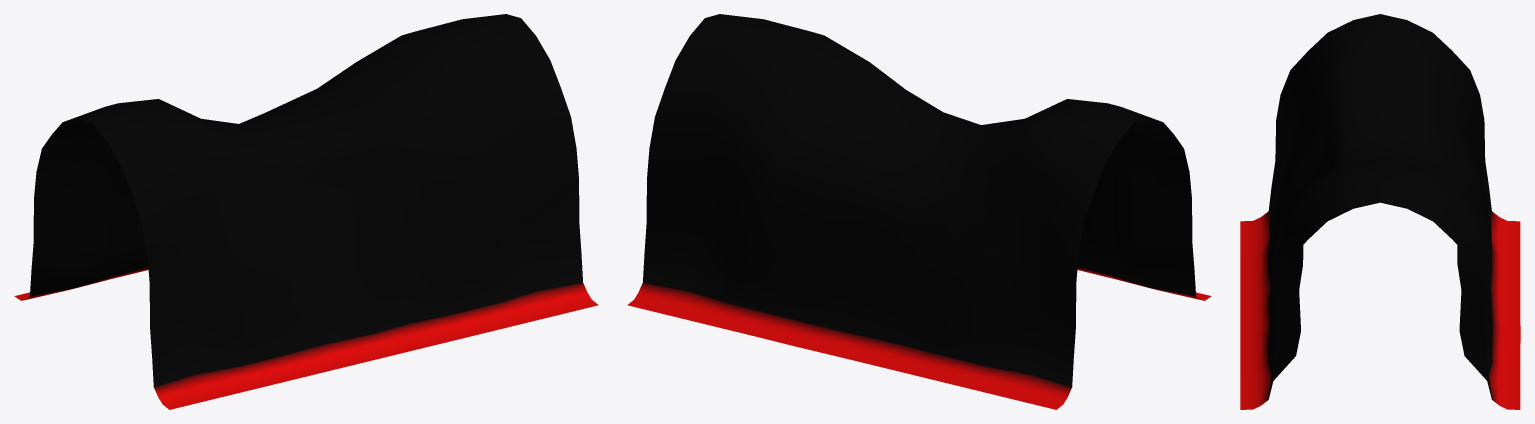
The model's file is GroundObject05B.fbx.
The picture shows the model from 3 angles, left to right: view 1: azimuth 30°, elevation 25°; view 2: azimuth 150°, elevation 25°; view 3: azimuth 270°, elevation 25°; orthographic projection. The views are drawn at different scales.
Parts seen in each view (by area): view 1: GroundObject05B; view 2: GroundObject05B; view 3: GroundObject05B.
Boxes of the visible parts, left/top/right/bottom form: GroundObject05B: left=14, top=14, right=598, bottom=409; GroundObject05B: left=627, top=14, right=1211, bottom=409; GroundObject05B: left=1240, top=14, right=1520, bottom=409.
Size of the model in its own units: 2 by 1.02 by 1.26.
